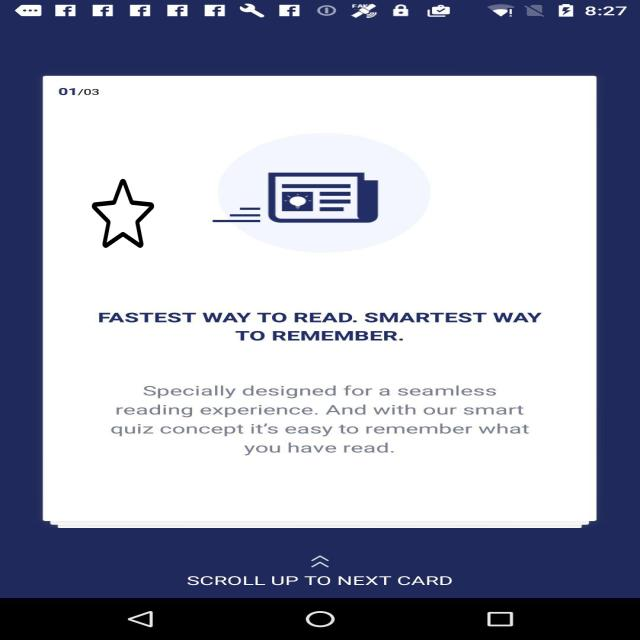forced continuity: (92, 178, 154, 250)
